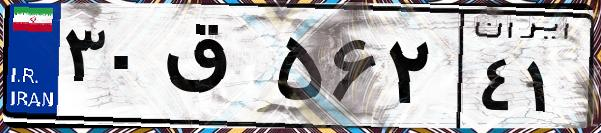0: (110, 28, 158, 98)
1: (525, 38, 570, 115)
2: (385, 28, 445, 110)
3: (57, 26, 110, 100)
4: (475, 38, 525, 113)
5: (270, 28, 330, 110)
6: (330, 28, 385, 110)
ق: (158, 20, 270, 120)
